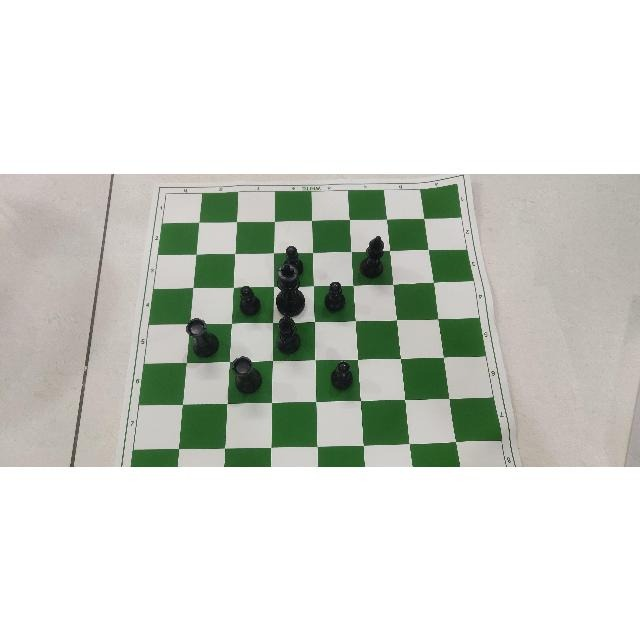black-bishop: (356, 231, 389, 280), (275, 314, 307, 357)
black-king: (270, 260, 308, 316)
black-pawn: (323, 355, 357, 396), (319, 277, 351, 315), (232, 281, 264, 319), (276, 241, 311, 275)
black-rook: (227, 351, 266, 399), (184, 313, 222, 359)
